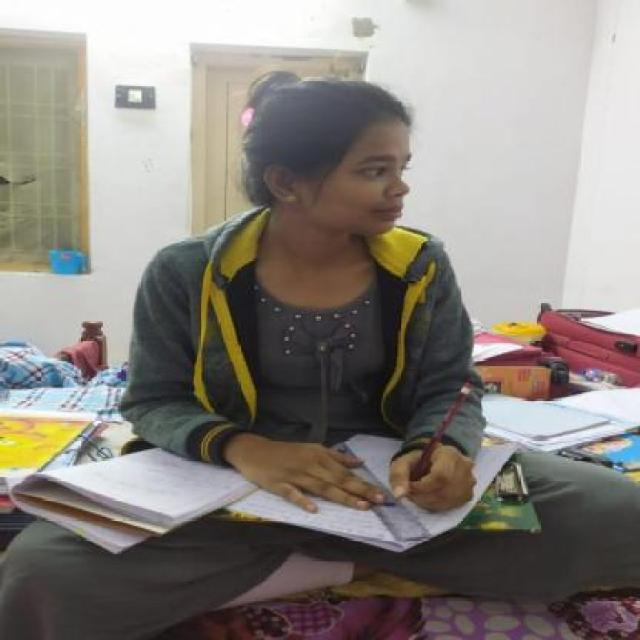cheating: (107, 65, 509, 548)
